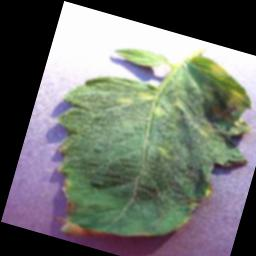Leaf_Mold: (208, 80, 254, 128), (206, 59, 234, 83)
